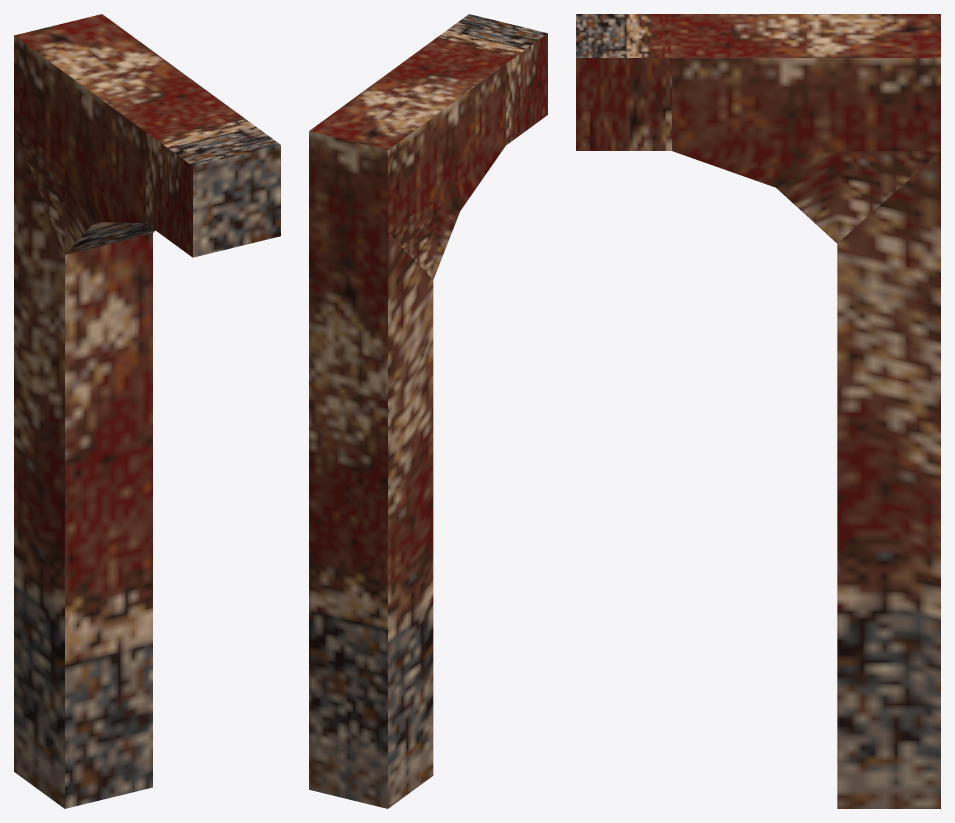
Rendered from SM_Dungeon_Pillar_Arch.fbx.
3 views of the same model, side by side, from view 1: azimuth 30°, elevation 25°; view 2: azimuth 150°, elevation 25°; view 3: azimuth 270°, elevation 25° (orthographic). The views are drawn at different scales.
Visible parts, largest first — view 1: SM_Dungeon_Pillar_Arch; view 2: SM_Dungeon_Pillar_Arch; view 3: SM_Dungeon_Pillar_Arch.
Part boxes in pixels (x1,y1,x2,y2): SM_Dungeon_Pillar_Arch: (14,14,280,808); SM_Dungeon_Pillar_Arch: (309,14,547,808); SM_Dungeon_Pillar_Arch: (576,14,940,808).
Size of the model in its own units: 50 by 399 by 176.
